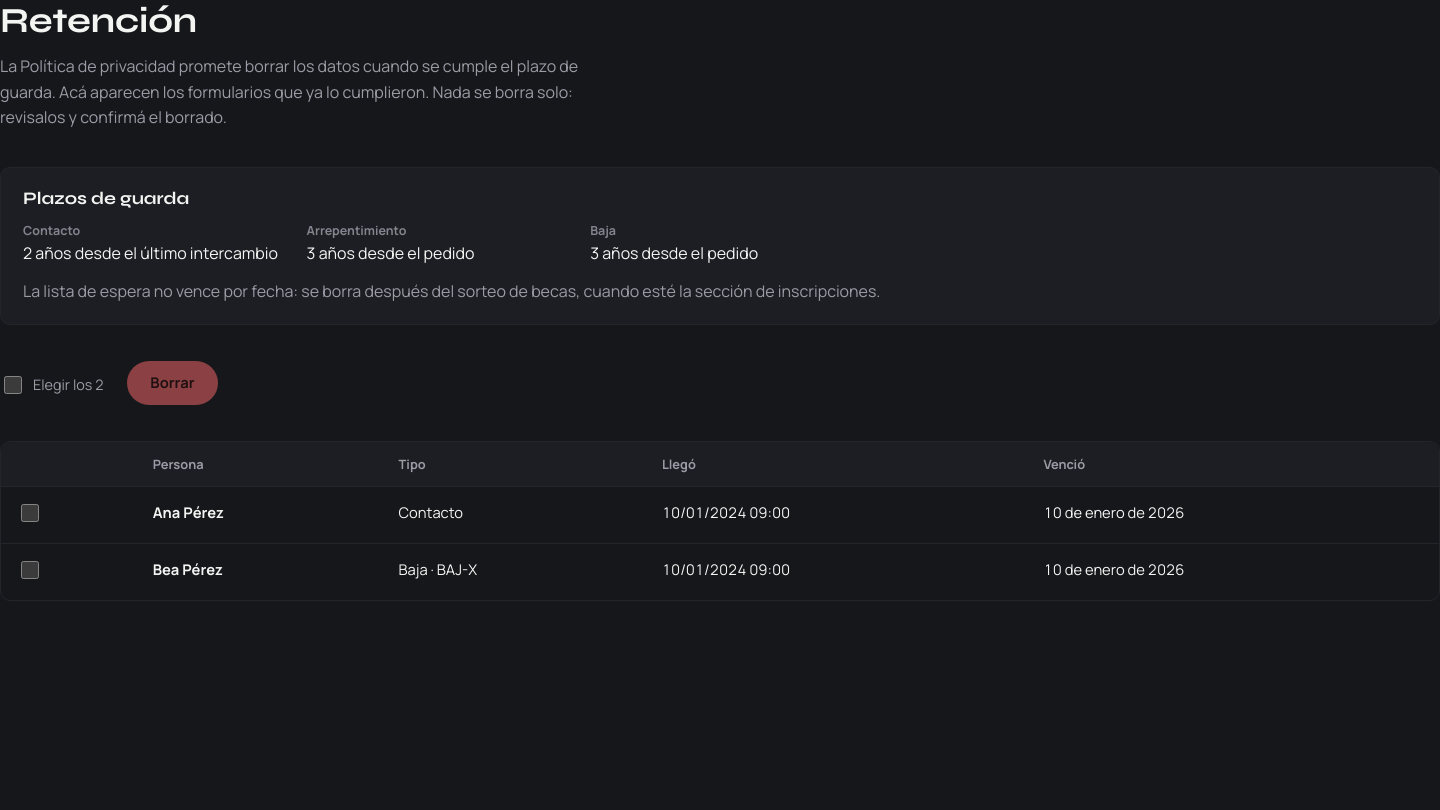
RetentionPage › borra solo los formularios elegidos después de confirmar
This screenshot has width=1440, height=810.
Expected: the button "Borrar" is disabled, [127, 361, 218, 405]
Click the checkbox labelled "Elegir los 2".
click(13, 385)  # box [4, 376, 22, 394]
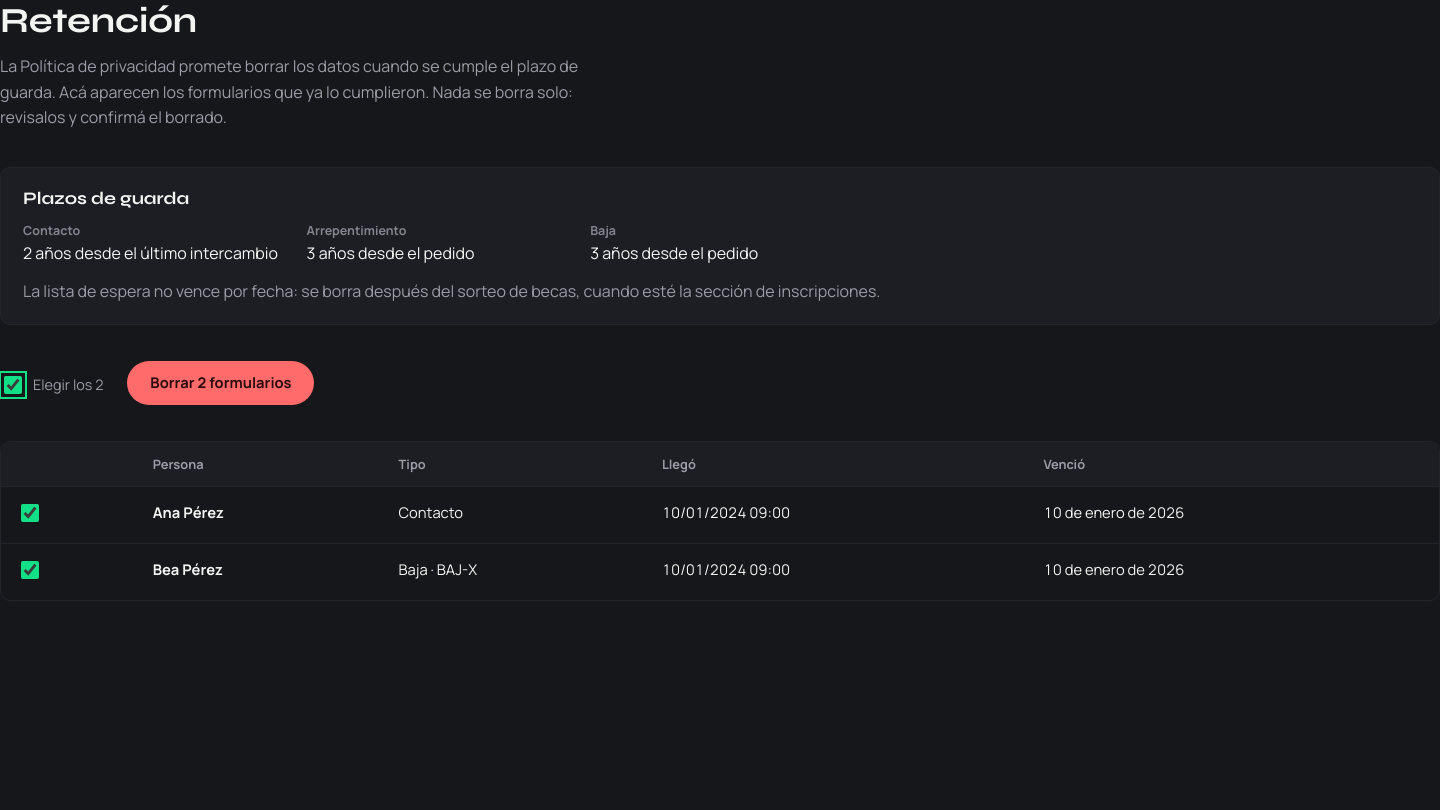
Click the button "Borrar 2 formularios".
click(221, 383)  # box [127, 361, 314, 405]
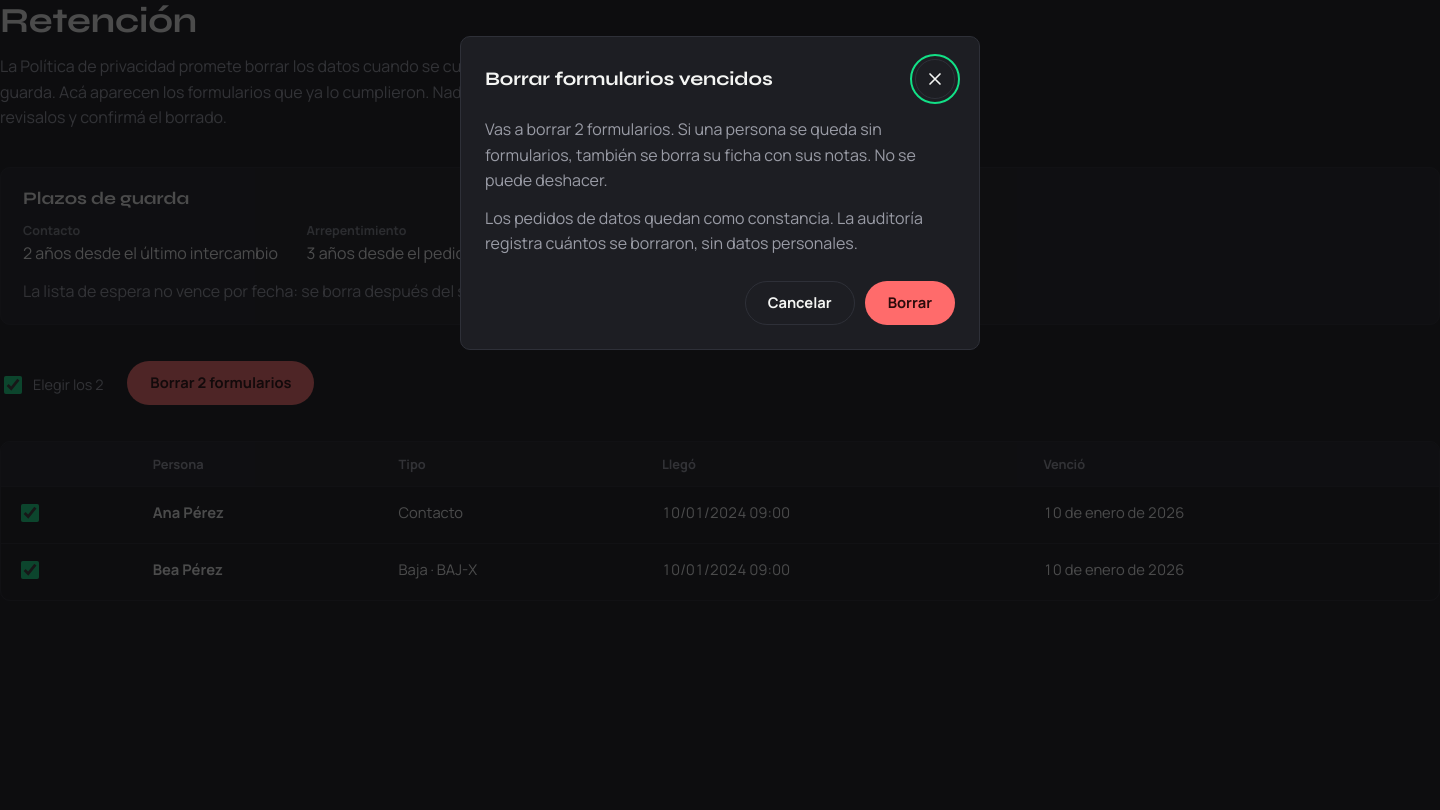
Click the button "Borrar".
click(910, 303)  # box [865, 281, 955, 325]
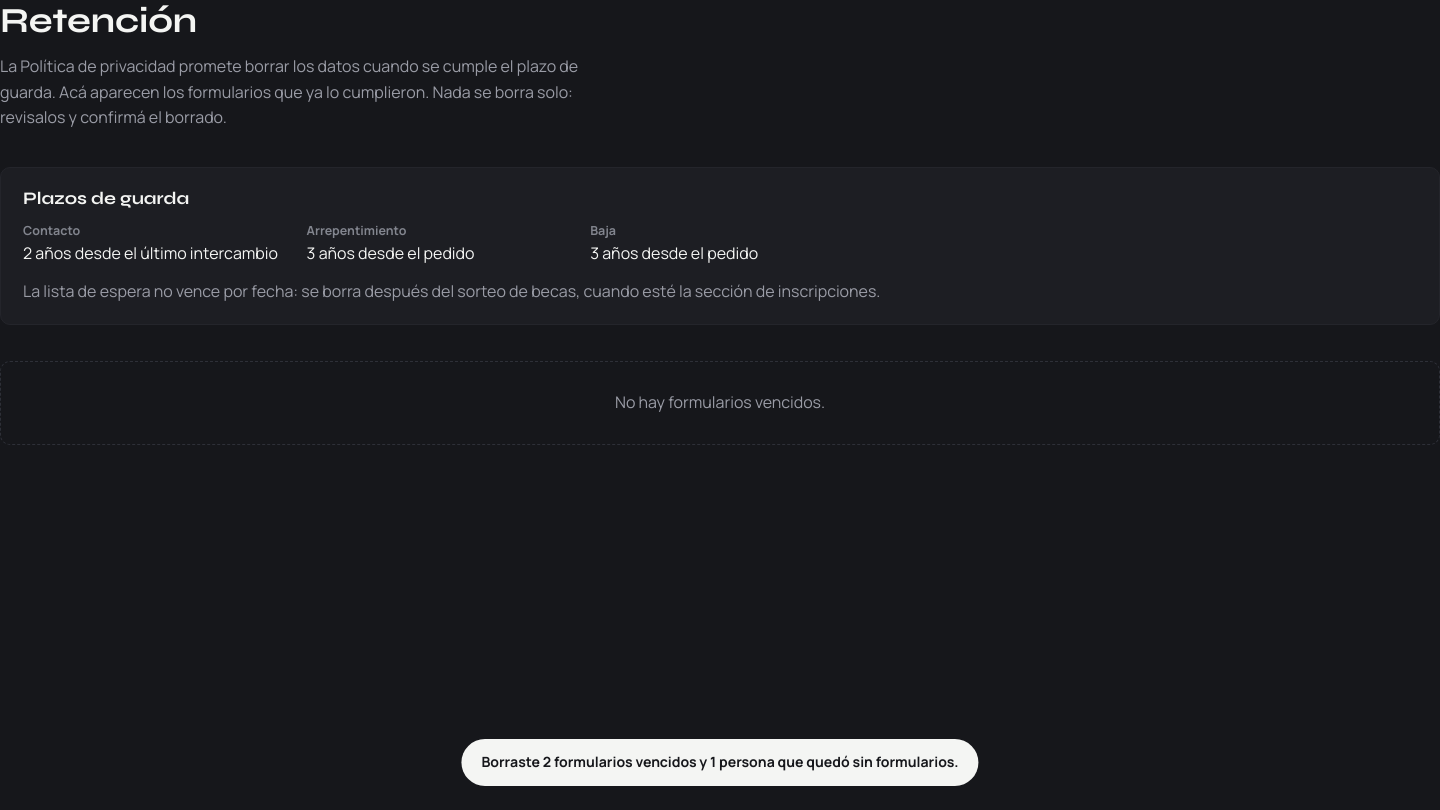
Expected: the text "No hay formularios vencidos." is shown, [0, 361, 1439, 445]
Expected: the text "Borraste 2 formularios vencidos y 1 persona que quedó sin formularios." is shown, [461, 740, 979, 786]
